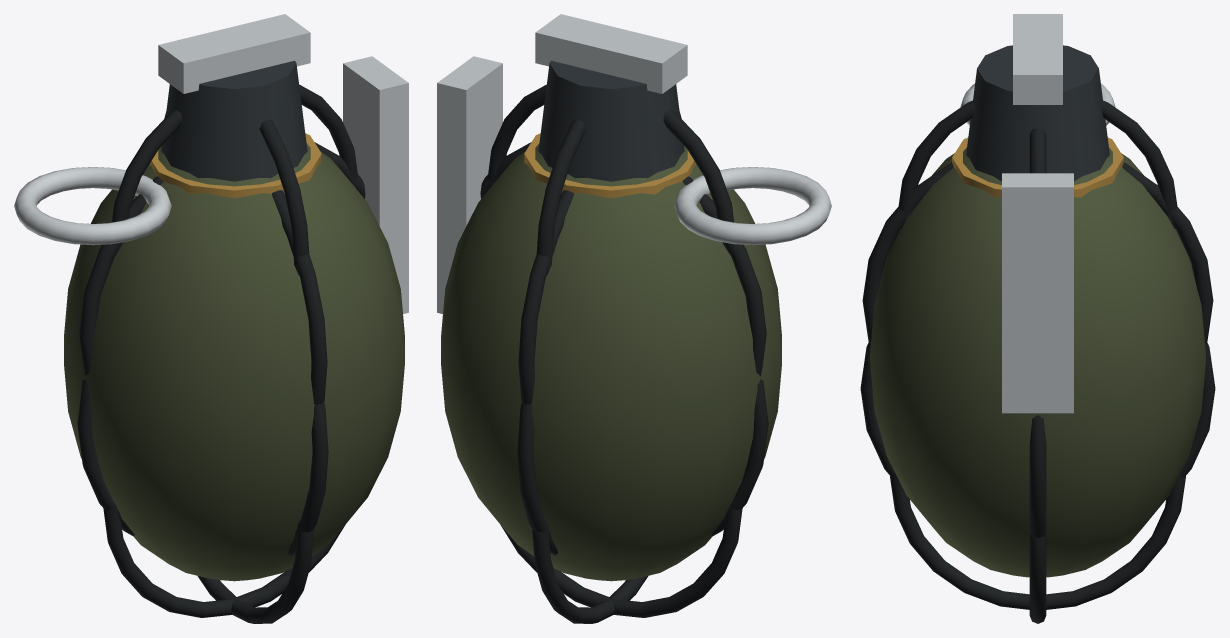
The picture shows the model from 3 angles, left to right: view 1: azimuth 30°, elevation 25°; view 2: azimuth 150°, elevation 25°; view 3: azimuth 270°, elevation 25°; orthographic projection.
Parts seen in each view (by area): view 1: he; view 2: he; view 3: he.
Boxes of the visible parts, bbox=[...] form: he: bbox=[14, 14, 408, 623]; he: bbox=[437, 14, 831, 623]; he: bbox=[860, 14, 1215, 623].
Bounding box in the file's own units: 0.15 × 0.2254 × 0.1281.
